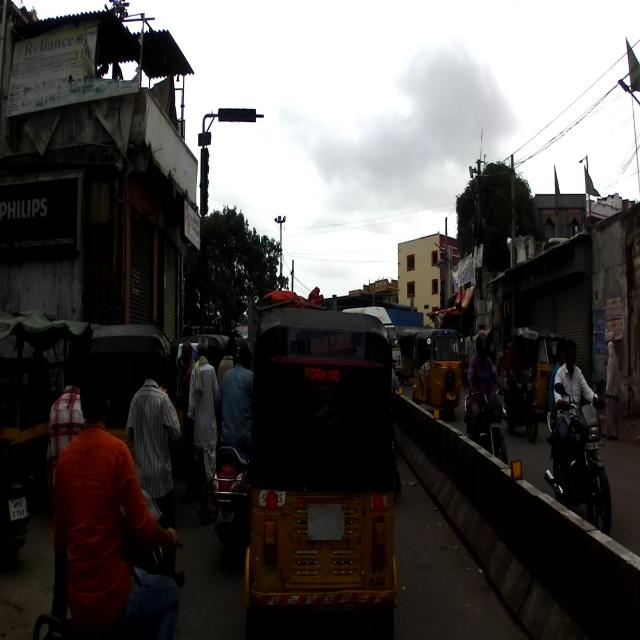autorickshaw: (240, 302, 398, 638), (92, 322, 178, 468), (171, 331, 230, 478), (411, 325, 462, 421), (514, 322, 564, 417)
motorcycle_Hero: (542, 380, 613, 538), (462, 383, 510, 466)
motorcycle_bajaj: (501, 361, 541, 441)
scooter: (32, 485, 182, 639), (206, 441, 252, 566)
